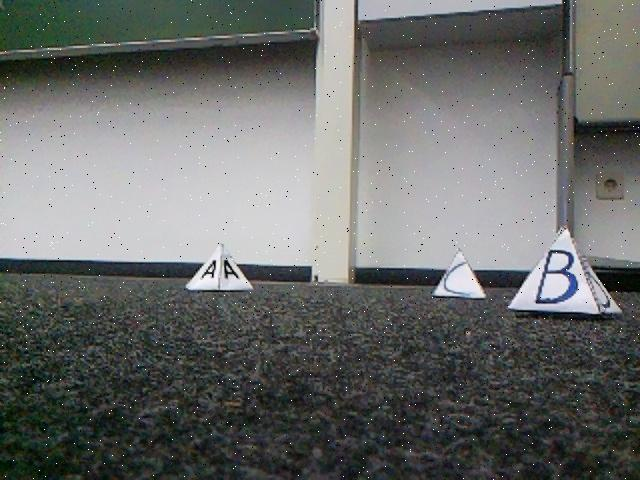A: (186, 243, 254, 293)
B: (510, 229, 625, 313)
C: (435, 246, 485, 300)
